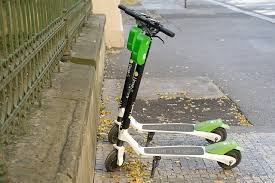kick_board: (106, 9, 241, 169)
kick_body: (142, 146, 204, 158), (142, 123, 198, 134)
kick_handler: (125, 10, 174, 37)
kick_wheel: (217, 147, 241, 170), (106, 150, 126, 170), (205, 126, 226, 145), (108, 125, 123, 145)
